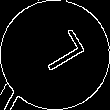L_SW: (25, 29, 85, 81)
